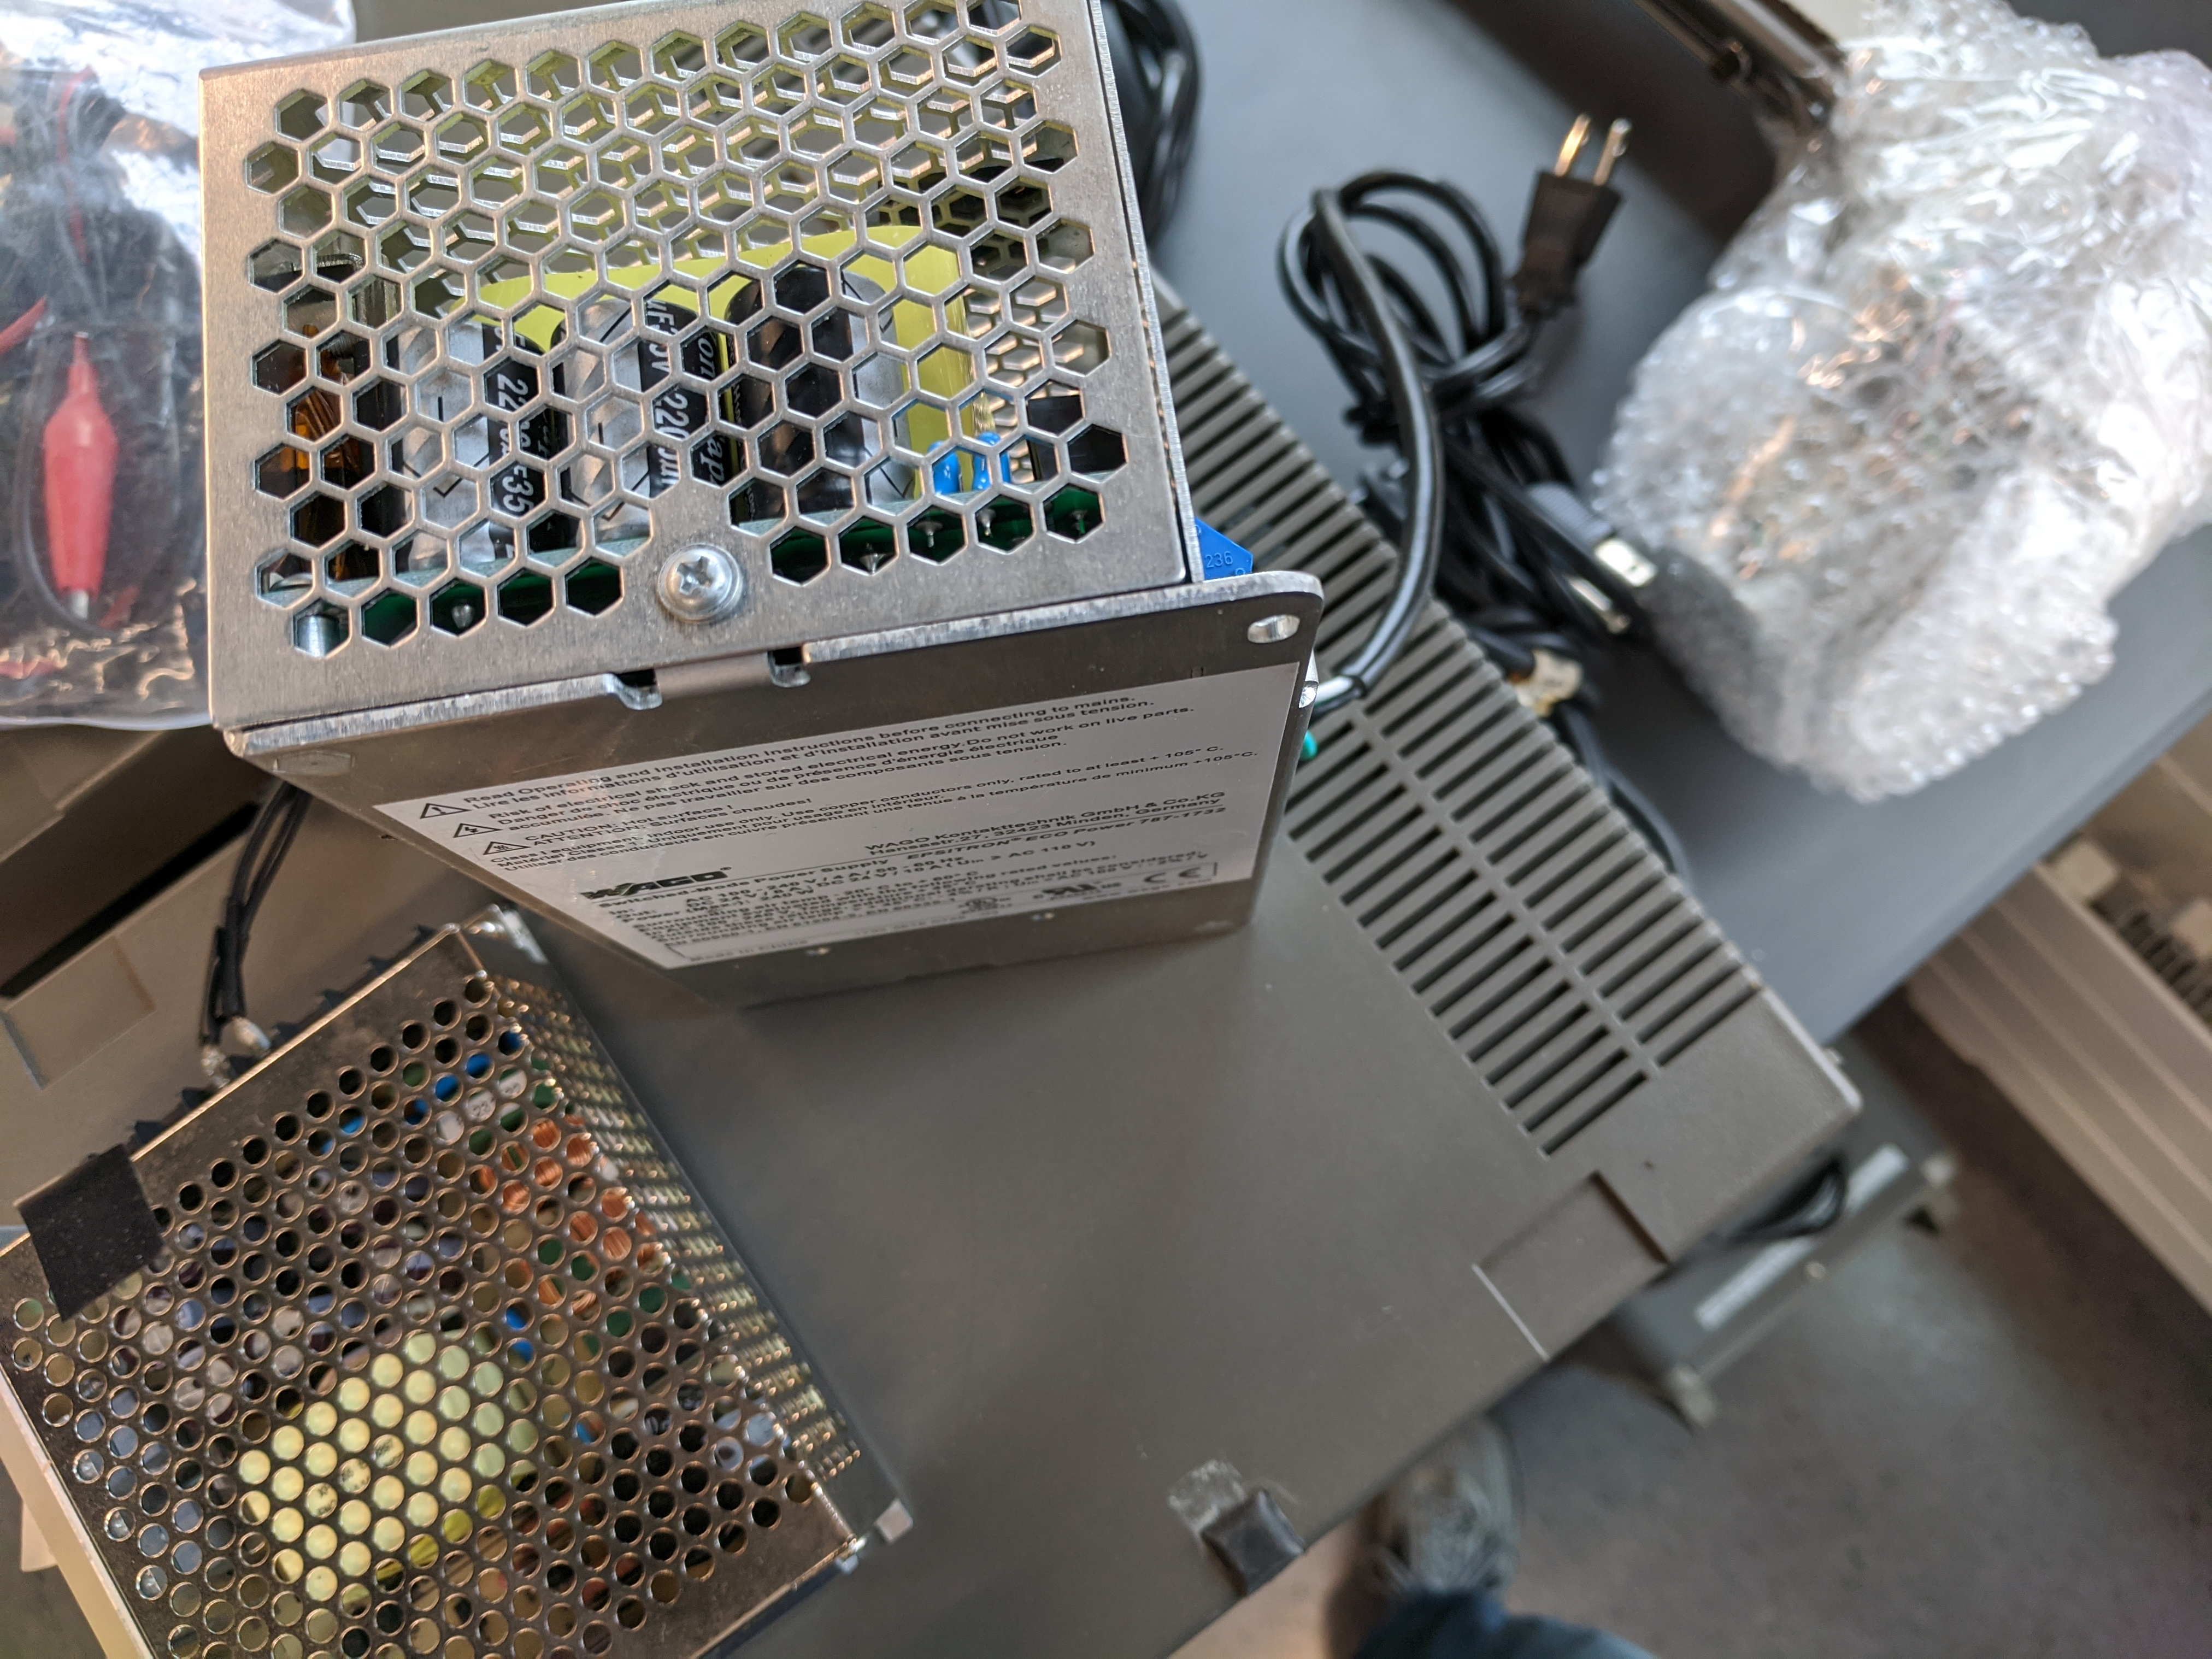cross_recessed_screw: (655, 538, 738, 613)
